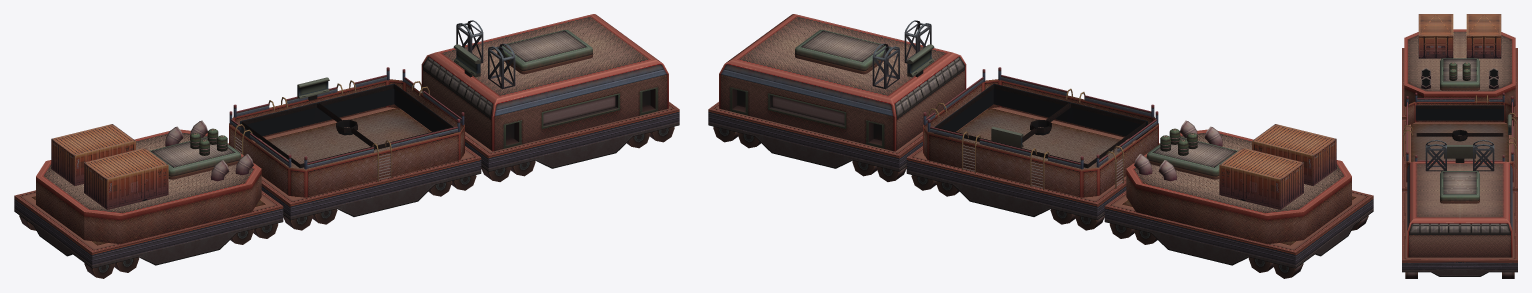
The model's file is S0_Train_Court.FBX.
3 views of the same model, side by side, from view 1: azimuth 30°, elevation 25°; view 2: azimuth 150°, elevation 25°; view 3: azimuth 270°, elevation 25° (orthographic). The views are drawn at different scales.
Parts seen in each view (by area): view 1: S0_Train_Court; view 2: S0_Train_Court; view 3: S0_Train_Court.
Part boxes in pixels (left/top/right/bottom): S0_Train_Court: left=14, top=14, right=679, bottom=278; S0_Train_Court: left=708, top=14, right=1373, bottom=278; S0_Train_Court: left=1402, top=14, right=1517, bottom=278.
Bounding box in the file's own units: 13333 × 3068 × 2493.
